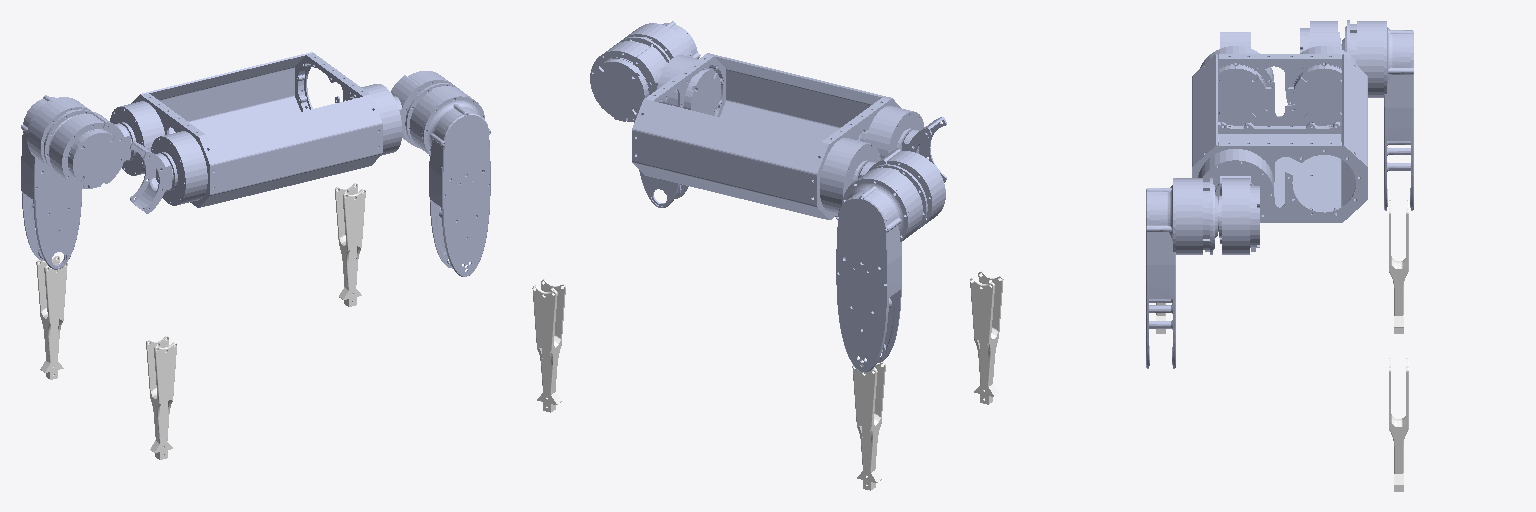
The robot description file, URDF, robot "mydog":
<?xml version="1.0" encoding="utf-8"?>
<!-- This URDF was automatically created by SolidWorks to URDF Exporter! Originally created by
Stephen Brawner (brawner@gmail.com) 
     Commit Version: 1.6.0-4-g7f85cfe  Build Version: 1.6.7995.38578
     For more information, please see http://wiki.ros.org/sw_urdf_exporter -->
<robot
  name="mydog">
  <link
    name="base_link">
    <inertial>
      <origin
        xyz="-0.105 -1.70200847193566E-18 -0.0524050771331315"
        rpy="0 0 0" />
      <mass
        value="0.210311173097364" />
      <inertia
        ixx="0.000418134046945269"
        ixy="1.74423204889991E-08"
        ixz="-8.55304753379831E-22"
        iyy="0.00072839928147298"
        iyz="-6.64391468002592E-21"
        izz="0.000816896416868302" />
    </inertial>
    <visual>
      <origin
        xyz="0 0 0"
        rpy="0 0 0" />
      <geometry>
        <mesh
          filename="package://mydog_description/meshes/base_link.STL" />
      </geometry>
      <material
        name="">
        <color
          rgba="0.792156862745098 0.819607843137255 0.933333333333333 1" />
      </material>
    </visual>
    <collision>
      <origin
        xyz="0 0 0"
        rpy="0 0 0" />
      <geometry>
        <mesh
          filename="package://mydog_description/meshes/base_link.STL" />
      </geometry>
    </collision>
  </link>
  <link
    name="11">
    <inertial>
      <origin
        xyz="-0.0224123714717193 3.46521422667223E-13 -6.26906588159712E-05"
        rpy="0 0 0" />
      <mass
        value="0.182382758104873" />
      <inertia
        ixx="0.000126686811945173"
        ixy="3.95742473689468E-16"
        ixz="-1.71117122824554E-07"
        iyy="8.66279482181998E-05"
        iyz="1.91882345389318E-11"
        izz="8.19833718653844E-05" />
    </inertial>
    <visual>
      <origin
        xyz="0 0 0"
        rpy="0 0 0" />
      <geometry>
        <mesh
          filename="package://mydog_description/meshes/11.STL" />
      </geometry>
      <material
        name="">
        <color
          rgba="0.792156862745098 0.819607843137255 0.933333333333333 1" />
      </material>
    </visual>
    <collision>
      <origin
        xyz="0 0 0"
        rpy="0 0 0" />
      <geometry>
        <mesh
          filename="package://mydog_description/meshes/11.STL" />
      </geometry>
    </collision>
  </link>
  <joint
    name="11"
    type="revolute">
    <origin
      xyz="0.0405 0.045 -0.0425"
      rpy="0 0 0" />
    <parent
      link="base_link" />
    <child
      link="11" />
    <axis
      xyz="-1 0 0" />
    <limit
      lower="-0.698"
      upper="0.314"
      effort="17"
      velocity="44" />
  </joint>
  <link
    name="12">
    <inertial>
      <origin
        xyz="-1.37033676064768E-06 0.0119848794491349 -0.00856326470097551"
        rpy="0 0 0" />
      <mass
        value="0.42955945040204" />
      <inertia
        ixx="0.000279248950416298"
        ixy="1.42708644353112E-09"
        ixz="-7.41349571141139E-09"
        iyy="0.00039312042285744"
        iyz="-1.51077009857706E-06"
        izz="0.000199559011391425" />
    </inertial>
    <visual>
      <origin
        xyz="0 0 0"
        rpy="0 0 0" />
      <geometry>
        <mesh
          filename="package://mydog_description/meshes/12.STL" />
      </geometry>
      <material
        name="">
        <color
          rgba="0.792156862745098 0.819607843137255 0.933333333333333 1" />
      </material>
    </visual>
    <collision>
      <origin
        xyz="0 0 0"
        rpy="0 0 0" />
      <geometry>
        <mesh
          filename="package://mydog_description/meshes/12.STL" />
      </geometry>
    </collision>
  </link>
  <joint
    name="12"
    type="revolute">
    <origin
      xyz="0.0445 0.0179 0"
      rpy="0 0 0" />
    <parent
      link="11" />
    <child
      link="12" />
    <axis
      xyz="0 -1 0" />
    <limit
      lower="-0.646"
      upper="1.57"
      effort="17"
      velocity="44" />
  </joint>
  <link
    name="13">
    <inertial>
      <origin
        xyz="0.000111408035685351 -0.0150000615874885 -0.0783166957771906"
        rpy="0 0 0" />
      <mass
        value="0.0197893757415935" />
      <inertia
        ixx="2.96247231546076E-05"
        ixy="5.83616095674413E-12"
        ixz="1.27200044284202E-11"
        iyy="2.94597515614904E-05"
        iyz="5.63912591935272E-11"
        izz="1.47723502880074E-06" />
    </inertial>
    <visual>
      <origin
        xyz="0 0 0"
        rpy="0 0 0" />
      <geometry>
        <mesh
          filename="package://mydog_description/meshes/13.STL" />
      </geometry>
      <material
        name="">
        <color
          rgba="1 1 1 1" />
      </material>
    </visual>
    <collision>
      <origin
        xyz="0 0 0"
        rpy="0 0 0" />
      <geometry>
        <mesh
          filename="package://mydog_description/meshes/13.STL" />
      </geometry>
    </collision>
  </link>
  <joint
    name="13"
    type="revolute">
    <origin
      xyz="-0.00011148 0.073 -0.156"
      rpy="0 0 0" />
    <parent
      link="12" />
    <child
      link="13" />
    <axis
      xyz="0 -1 0" />
    <limit
      lower="-2.443"
      upper="2.443"
      effort="17"
      velocity="44" />
  </joint>
  <link name="14">
    <inertial>
      <origin xyz="-2.09269545997648E-07 6.96730477062202E-08 0.016099665842982" rpy="0 0 0" />
      <mass value="0.0165731234899718" />
      <inertia ixx="1.62971777866932E-06" ixy="3.14018149487118E-11" ixz="-3.74262782890753E-11"
        iyy="2.24154059357759E-06" iyz="-7.97693596481891E-11" izz="2.06995116065169E-06" />
    </inertial>
    <visual>
      <origin xyz="0 0 0" rpy="0 0 0" />
      <geometry>
        <mesh filename="package://mydog_description/meshes/14.STL" />
      </geometry>
      <material name="">
        <color rgba="0.792156862745098 0.819607843137255 0.933333333333333 1" />
      </material>
    </visual>
    <collision>
      <origin xyz="0 0 0.013" rpy="0 0 0" />
      <geometry>
        <sphere radius="0.013" />
      </geometry>
    </collision>
  </link>
  <joint
    name="14"
    type="fixed">
    <origin
      xyz="0.00011148 -0.015 -0.169"
      rpy="0 0 0" />
    <parent
      link="13" />
    <child
      link="14" />
    <axis
      xyz="0 0 0" />
  </joint>
  <link
    name="21">
    <inertial>
      <origin
        xyz="-0.0224123714717193 -6.26907182656594E-05 -5.91031668051301E-11"
        rpy="0 0 0" />
      <mass
        value="0.182382758104873" />
      <inertia
        ixx="0.000126686811945173"
        ixy="-1.71129806846609E-07"
        ixz="-1.26836263010042E-11"
        iyy="8.62479925698518E-05"
        iyz="1.9188234535176E-11"
        izz="8.23633275137325E-05" />
    </inertial>
    <visual>
      <origin
        xyz="0 0 0"
        rpy="0 0 0" />
      <geometry>
        <mesh
          filename="package://mydog_description/meshes/21.STL" />
      </geometry>
      <material
        name="">
        <color
          rgba="0.792156862745098 0.819607843137255 0.933333333333333 1" />
      </material>
    </visual>
    <collision>
      <origin
        xyz="0 0 0"
        rpy="0 0 0" />
      <geometry>
        <mesh
          filename="package://mydog_description/meshes/21.STL" />
      </geometry>
    </collision>
  </link>
  <joint
    name="21"
    type="revolute">
    <origin
      xyz="0.0405 -0.045 -0.0425"
      rpy="0 0 0" />
    <parent
      link="base_link" />
    <child
      link="21" />
    <axis
      xyz="-1 0 0" />
    <limit
      lower="-0.314"
      upper="0.698"
      effort="17"
      velocity="44" />
  </joint>
  <link
    name="22">
    <inertial>
      <origin
        xyz="1.37033676067544E-06 -0.0119848794491349 -0.00861649926969918"
        rpy="0 0 0" />
      <mass
        value="0.429559450402041" />
      <inertia
        ixx="0.000279248950416298"
        ixy="1.42708644269123E-09"
        ixz="7.41349571128629E-09"
        iyy="0.000393120422857439"
        iyz="1.85302971147873E-06"
        izz="0.000199559011391425" />
    </inertial>
    <visual>
      <origin
        xyz="0 0 0"
        rpy="0 0 0" />
      <geometry>
        <mesh
          filename="package://mydog_description/meshes/22.STL" />
      </geometry>
      <material
        name="">
        <color
          rgba="0.792156862745098 0.819607843137255 0.933333333333333 1" />
      </material>
    </visual>
    <collision>
      <origin
        xyz="0 0 0"
        rpy="0 0 0" />
      <geometry>
        <mesh
          filename="package://mydog_description/meshes/22.STL" />
      </geometry>
    </collision>
  </link>
  <joint
    name="22"
    type="revolute">
    <origin
      xyz="0.0445 -0.0179 0"
      rpy="0 0 0" />
    <parent
      link="21" />
    <child
      link="22" />
    <axis
      xyz="0 1 0" />
    <limit
      lower="-1.57"
      upper="0.646"
      effort="17"
      velocity="44" />
  </joint>
  <link
    name="23">
    <inertial>
      <origin
        xyz="-0.000111556334854573 0.0149999384125115 -0.0783166957772806"
        rpy="0 0 0" />
      <mass
        value="0.0197893757415934" />
      <inertia
        ixx="2.96247231546073E-05"
        ixy="5.83616096054043E-12"
        ixz="1.27200044296092E-11"
        iyy="2.94597515614902E-05"
        iyz="5.63912591848607E-11"
        izz="1.47723502880073E-06" />
    </inertial>
    <visual>
      <origin
        xyz="0 0 0"
        rpy="0 0 0" />
      <geometry>
        <mesh
          filename="package://mydog_description/meshes/23.STL" />
      </geometry>
      <material
        name="">
        <color
          rgba="1 1 1 1" />
      </material>
    </visual>
    <collision>
      <origin
        xyz="0 0 0"
        rpy="0 0 0" />
      <geometry>
        <mesh
          filename="package://mydog_description/meshes/23.STL" />
      </geometry>
    </collision>
  </link>
  <joint
    name="23"
    type="revolute">
    <origin
      xyz="0.00011148 -0.073 -0.156"
      rpy="0 0 0" />
    <parent
      link="22" />
    <child
      link="23" />
    <axis
      xyz="0 1 0" />
    <limit
      lower="-2.443"
      upper="2.443"
      effort="17"
      velocity="44" />
  </joint>
  <link
    name="24">
    <inertial>
      <origin
        xyz="2.09269546302959E-07 -6.96730477617313E-08 0.016099665842982"
        rpy="0 0 0" />
      <mass
        value="0.0165731234899719" />
      <inertia
        ixx="1.62971777866932E-06"
        ixy="3.14018149422214E-11"
        ixz="3.74262782971151E-11"
        iyy="2.24154059357759E-06"
        iyz="7.97693596512093E-11"
        izz="2.06995116065169E-06" />
    </inertial>
    <visual>
      <origin
        xyz="0 0 0"
        rpy="0 0 0" />
      <geometry>
        <mesh
          filename="package://mydog_description/meshes/24.STL" />
      </geometry>
      <material
        name="">
        <color
          rgba="0.792156862745098 0.819607843137255 0.933333333333333 1" />
      </material>
    </visual>
    <collision>
      <origin
        xyz="0 0 0.013"
        rpy="0 0 0" />
      <geometry>
        <sphere radius="0.013" />
      </geometry>
    </collision>
  </link>
  <joint
    name="24"
    type="fixed">
    <origin
      xyz="-0.00011148 0.015 -0.169"
      rpy="0 0 0" />
    <parent
      link="23" />
    <child
      link="24" />
    <axis
      xyz="0 0 0" />
  </joint>
  <link
    name="31">
    <inertial>
      <origin
        xyz="0.0224123714717193 6.26907182656525E-05 -5.91031598662362E-11"
        rpy="0 0 0" />
      <mass
        value="0.182382758104873" />
      <inertia
        ixx="0.000126686811945173"
        ixy="-1.71129806846609E-07"
        ixz="1.26836263014264E-11"
        iyy="8.62479925698518E-05"
        iyz="-1.9188234536044E-11"
        izz="8.23633275137325E-05" />
    </inertial>
    <visual>
      <origin
        xyz="0 0 0"
        rpy="0 0 0" />
      <geometry>
        <mesh
          filename="package://mydog_description/meshes/31.STL" />
      </geometry>
      <material
        name="">
        <color
          rgba="0.792156862745098 0.819607843137255 0.933333333333333 1" />
      </material>
    </visual>
    <collision>
      <origin
        xyz="0 0 0"
        rpy="0 0 0" />
      <geometry>
        <mesh
          filename="package://mydog_description/meshes/31.STL" />
      </geometry>
    </collision>
  </link>
  <joint
    name="31"
    type="revolute">
    <origin
      xyz="-0.2505 -0.045 -0.0425"
      rpy="0 0 0" />
    <parent
      link="base_link" />
    <child
      link="31" />
    <axis
      xyz="1 0 0" />
    <limit
      lower="-0.698"
      upper="0.314"
      effort="17"
      velocity="44" />
  </joint>
  <link
    name="32">
    <inertial>
      <origin
        xyz="-1.76010526534154E-06 -0.0119848794539333 -0.00856326480293162"
        rpy="0 0 0" />
      <mass
        value="0.429559450437959" />
      <inertia
        ixx="0.000279248932589364"
        ixy="1.35760081511697E-09"
        ixz="-3.05848297374224E-08"
        iyy="0.000393120423564499"
        iyz="1.51077012314479E-06"
        izz="0.000199559029925528" />
    </inertial>
    <visual>
      <origin
        xyz="0 0 0"
        rpy="0 0 0" />
      <geometry>
        <mesh
          filename="package://mydog_description/meshes/32.STL" />
      </geometry>
      <material
        name="">
        <color
          rgba="0.792156862745098 0.819607843137255 0.933333333333333 1" />
      </material>
    </visual>
    <collision>
      <origin
        xyz="0 0 0"
        rpy="0 0 0" />
      <geometry>
        <mesh
          filename="package://mydog_description/meshes/32.STL" />
      </geometry>
    </collision>
  </link>
  <joint
    name="32"
    type="revolute">
    <origin
      xyz="-0.0445 -0.0179 0"
      rpy="0 0 0" />
    <parent
      link="31" />
    <child
      link="32" />
    <axis
      xyz="0 1 0" />
    <limit
      lower="-0.646"
      upper="1.57"
      effort="17"
      velocity="44" />
  </joint>
  <link
    name="33">
    <inertial>
      <origin
        xyz="7.40038748614502E-08 0.0150000615911815 -0.0783166621566863"
        rpy="0 0 0" />
      <mass
        value="0.0197893757548061" />
      <inertia
        ixx="2.96247231942042E-05"
        ixy="5.83633823151134E-12"
        ixz="-1.27213281980368E-11"
        iyy="2.94597515910045E-05"
        iyz="-5.6394963074725E-11"
        izz="1.47723503893506E-06" />
    </inertial>
    <visual>
      <origin
        xyz="0 0 0"
        rpy="0 0 0" />
      <geometry>
        <mesh
          filename="package://mydog_description/meshes/33.STL" />
      </geometry>
      <material
        name="">
        <color
          rgba="1 1 1 1" />
      </material>
    </visual>
    <collision>
      <origin
        xyz="0 0 0"
        rpy="0 0 0" />
      <geometry>
        <mesh
          filename="package://mydog_description/meshes/33.STL" />
      </geometry>
    </collision>
  </link>
  <joint
    name="33"
    type="revolute">
    <origin
      xyz="0 -0.073 -0.156"
      rpy="0 0 0" />
    <parent
      link="32" />
    <child
      link="33" />
    <axis
      xyz="0 1 0" />
    <limit
      lower="-2.443"
      upper="2.443"
      effort="17"
      velocity="44" />
  </joint>
  <link
    name="34">
    <inertial>
      <origin
        xyz="2.09269546053159E-07 -6.96730478172425E-08 0.016099665842982"
        rpy="0 0 0" />
      <mass
        value="0.0165731234899718" />
      <inertia
        ixx="1.62971777866932E-06"
        ixy="3.14018149414209E-11"
        ixz="3.74262782845742E-11"
        iyy="2.24154059357758E-06"
        iyz="7.97693596410887E-11"
        izz="2.06995116065168E-06" />
    </inertial>
    <visual>
      <origin
        xyz="0 0 0"
        rpy="0 0 0" />
      <geometry>
        <mesh
          filename="package://mydog_description/meshes/34.STL" />
      </geometry>
      <material
        name="">
        <color
          rgba="0.792156862745098 0.819607843137255 0.933333333333333 1" />
      </material>
    </visual>
    <collision>
      <origin
        xyz="0 0 0.013"
        rpy="0 0 0" />
      <geometry>
        <sphere radius="0.013" />
      </geometry>
    </collision>
  </link>
  <joint
    name="34"
    type="fixed">
    <origin
      xyz="0 0.015 -0.168999999999539"
      rpy="0 0 0" />
    <parent
      link="33" />
    <child
      link="34" />
    <axis
      xyz="0 0 0" />
  </joint>
  <link
    name="41">
    <inertial>
      <origin
        xyz="0.0224123714717193 -6.26907182656594E-05 5.91031598662362E-11"
        rpy="0 0 0" />
      <mass
        value="0.182382758104873" />
      <inertia
        ixx="0.000126686811945173"
        ixy="1.7112980684661E-07"
        ixz="-1.26836263017949E-11"
        iyy="8.62479925698518E-05"
        iyz="-1.918823453751E-11"
        izz="8.23633275137325E-05" />
    </inertial>
    <visual>
      <origin
        xyz="0 0 0"
        rpy="0 0 0" />
      <geometry>
        <mesh
          filename="package://mydog_description/meshes/41.STL" />
      </geometry>
      <material
        name="">
        <color
          rgba="0.792156862745098 0.819607843137255 0.933333333333333 1" />
      </material>
    </visual>
    <collision>
      <origin
        xyz="0 0 0"
        rpy="0 0 0" />
      <geometry>
        <mesh
          filename="package://mydog_description/meshes/41.STL" />
      </geometry>
    </collision>
  </link>
  <joint
    name="41"
    type="revolute">
    <origin
      xyz="-0.2505 0.045 -0.0425"
      rpy="0 0 0" />
    <parent
      link="base_link" />
    <child
      link="41" />
    <axis
      xyz="1 0 0" />
    <limit
      lower="-0.314"
      upper="0.698"
      effort="17"
      velocity="44" />
  </joint>
  <link
    name="42">
    <inertial>
      <origin
        xyz="-1.37033676070319E-06 0.0119848794491349 -0.00861649926969918"
        rpy="0 0 0" />
      <mass
        value="0.42955945040204" />
      <inertia
        ixx="0.000279248950416298"
        ixy="1.42708644269078E-09"
        ixz="-7.41349571128488E-09"
        iyy="0.000393120422857439"
        iyz="-1.85302971147873E-06"
        izz="0.000199559011391425" />
    </inertial>
    <visual>
      <origin
        xyz="0 0 0"
        rpy="0 0 0" />
      <geometry>
        <mesh
          filename="package://mydog_description/meshes/42.STL" />
      </geometry>
      <material
        name="">
        <color
          rgba="0.792156862745098 0.819607843137255 0.933333333333333 1" />
      </material>
    </visual>
    <collision>
      <origin
        xyz="0 0 0"
        rpy="0 0 0" />
      <geometry>
        <mesh
          filename="package://mydog_description/meshes/42.STL" />
      </geometry>
    </collision>
  </link>
  <joint
    name="42"
    type="revolute">
    <origin
      xyz="-0.0445 0.0179 0"
      rpy="0 0 0" />
    <parent
      link="41" />
    <child
      link="42" />
    <axis
      xyz="0 -1 0" />
    <limit
      lower="-1.57"
      upper="0.646"
      effort="17"
      velocity="44" />
  </joint>
  <link
    name="43">
    <inertial>
      <origin
        xyz="0.000111408185233142 -0.0150000615874885 -0.0783166957772808"
        rpy="0 0 0" />
      <mass
        value="0.0197893757415934" />
      <inertia
        ixx="2.96247231546074E-05"
        ixy="5.83616096183456E-12"
        ixz="1.2720004452505E-11"
        iyy="2.94597515614902E-05"
        iyz="5.63912591888534E-11"
        izz="1.47723502880073E-06" />
    </inertial>
    <visual>
      <origin
        xyz="0 0 0"
        rpy="0 0 0" />
      <geometry>
        <mesh
          filename="package://mydog_description/meshes/43.STL" />
      </geometry>
      <material
        name="">
        <color
          rgba="1 1 1 1" />
      </material>
    </visual>
    <collision>
      <origin
        xyz="0 0 0"
        rpy="0 0 0" />
      <geometry>
        <mesh
          filename="package://mydog_description/meshes/43.STL" />
      </geometry>
    </collision>
  </link>
  <joint
    name="43"
    type="revolute">
    <origin
      xyz="-0.00011148 0.073 -0.156"
      rpy="0 0 0" />
    <parent
      link="42" />
    <child
      link="43" />
    <axis
      xyz="0 -1 0" />
    <limit
      lower="-2.443"
      upper="2.443"
      effort="17"
      velocity="44" />
  </joint>
  <link
    name="44">
    <inertial>
      <origin
        xyz="-2.09269546053159E-07 6.96730477756091E-08 0.016099665842982"
        rpy="0 0 0" />
      <mass
        value="0.0165731234899719" />
      <inertia
        ixx="1.62971777866932E-06"
        ixy="3.14018149492581E-11"
        ixz="-3.74262782906894E-11"
        iyy="2.2415405935776E-06"
        iyz="-7.97693596469403E-11"
        izz="2.0699511606517E-06" />
    </inertial>
    <visual>
      <origin
        xyz="0 0 0"
        rpy="0 0 0" />
      <geometry>
        <mesh
          filename="package://mydog_description/meshes/44.STL" />
      </geometry>
      <material
        name="">
        <color
          rgba="0.792156862745098 0.819607843137255 0.933333333333333 1" />
      </material>
    </visual>
    <collision>
      <origin
        xyz="0 0 0.013"
        rpy="0 0 0" />
      <geometry>
        <sphere radius="0.013" />
      </geometry>
    </collision>
  </link>
  <joint
    name="44"
    type="fixed">
    <origin
      xyz="0.000111482260043261 -0.015 -0.169000033589626"
      rpy="0 0 0" />
    <parent
      link="43" />
    <child
      link="44" />
    <axis
      xyz="0 0 0" />
  </joint>
</robot>

--- Render facts (derived) ---
The picture shows the robot from 3 angles, left to right: view 1: azimuth 30°, elevation 25°; view 2: azimuth 150°, elevation 25°; view 3: azimuth 270°, elevation 25°; orthographic projection.
Robot: mydog — 17 links, 16 joints (12 revolute, 4 fixed); root link base_link; default pose: every joint at zero.
Links seen in each view (by area): view 1: base_link, 22, 42, 31, 41, 13, 33, 43, 21; view 2: base_link, 42, 22, 33, 13, 21, 41, 31, 43; view 3: base_link, 22, 42, 31, 41, 21, 13, 43.
Boxes of the visible links, x1,y1,x2,y2 form: base_link: [131, 52, 382, 207]; 22: [405, 71, 490, 276]; 42: [21, 95, 121, 269]; 31: [130, 131, 207, 213]; 41: [91, 101, 169, 183]; 13: [335, 183, 365, 306]; 33: [146, 336, 176, 459]; 43: [36, 256, 67, 379]; 21: [343, 75, 422, 155]; base_link: [632, 53, 900, 219]; 42: [835, 151, 945, 371]; 22: [590, 21, 700, 207]; 33: [970, 271, 1003, 404]; 13: [532, 279, 565, 412]; 21: [633, 46, 720, 120]; 41: [820, 138, 900, 213]; 31: [860, 106, 946, 182]; 43: [852, 358, 885, 490]; base_link: [1192, 54, 1367, 222]; 22: [1146, 178, 1259, 368]; 42: [1300, 20, 1413, 210]; 31: [1200, 32, 1273, 124]; 41: [1286, 32, 1359, 124]; 21: [1198, 149, 1273, 243]; 13: [1389, 358, 1408, 491]; 43: [1389, 200, 1408, 333].
Size in the robot's own frame: 0.4585 by 0.2718 by 0.3492 metres.
9 mesh visuals loaded from 17 distinct referenced files (9 binary STL); not drawn: 8 (reference not matched to a file when rendering).
